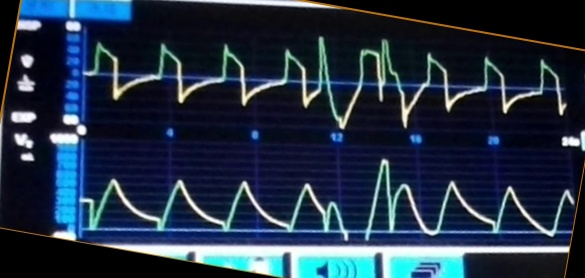Double_Triggering Flow: (92, 36, 530, 131)
Double_Triggering Volume: (84, 158, 550, 242)
